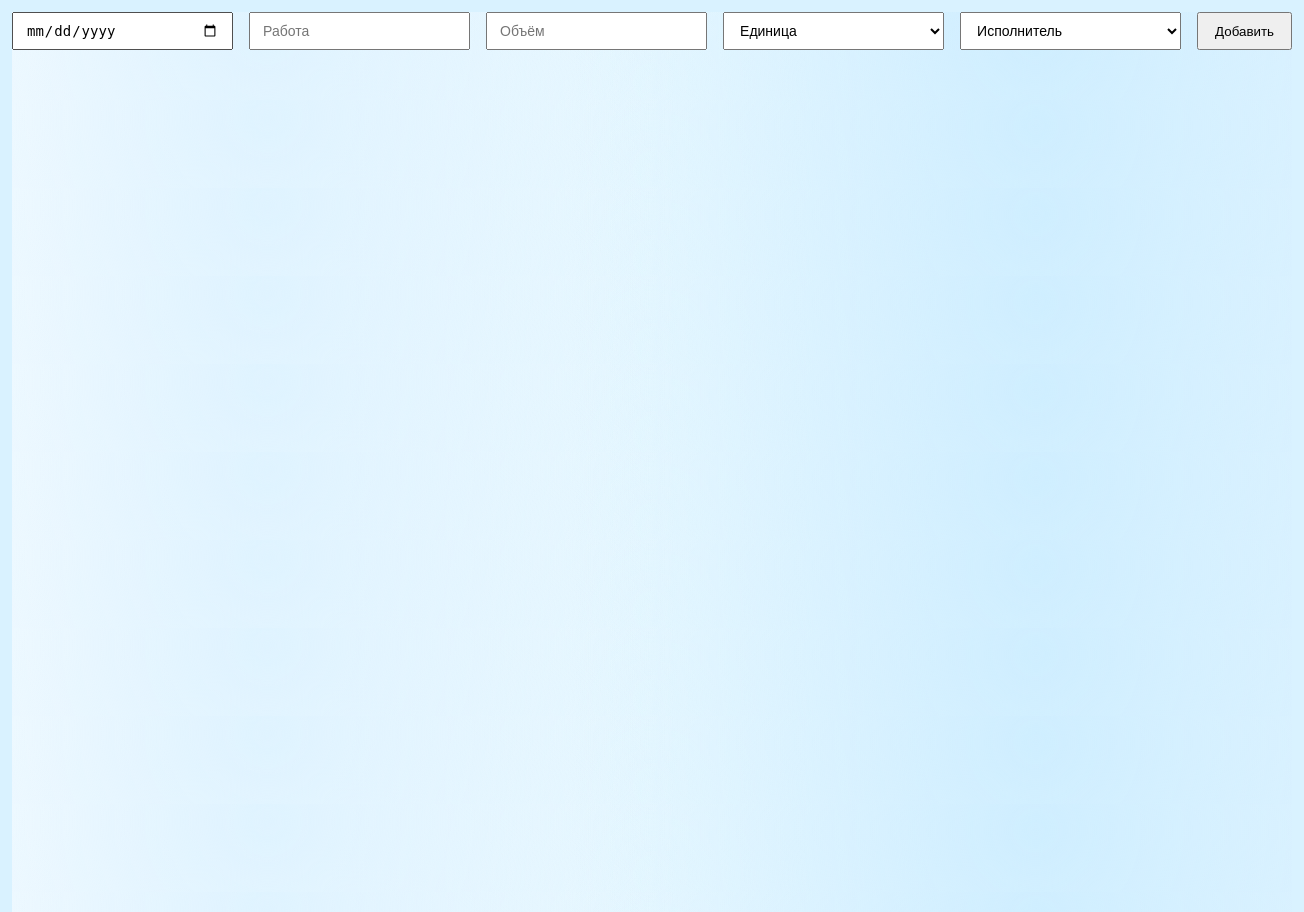
Test case: LogForm › disables button while submitting
The image size is (1304, 912).
Type "2026-06-05" into the date field with test id "date-input". click: (122, 31)
box: [12, 12, 233, 50]
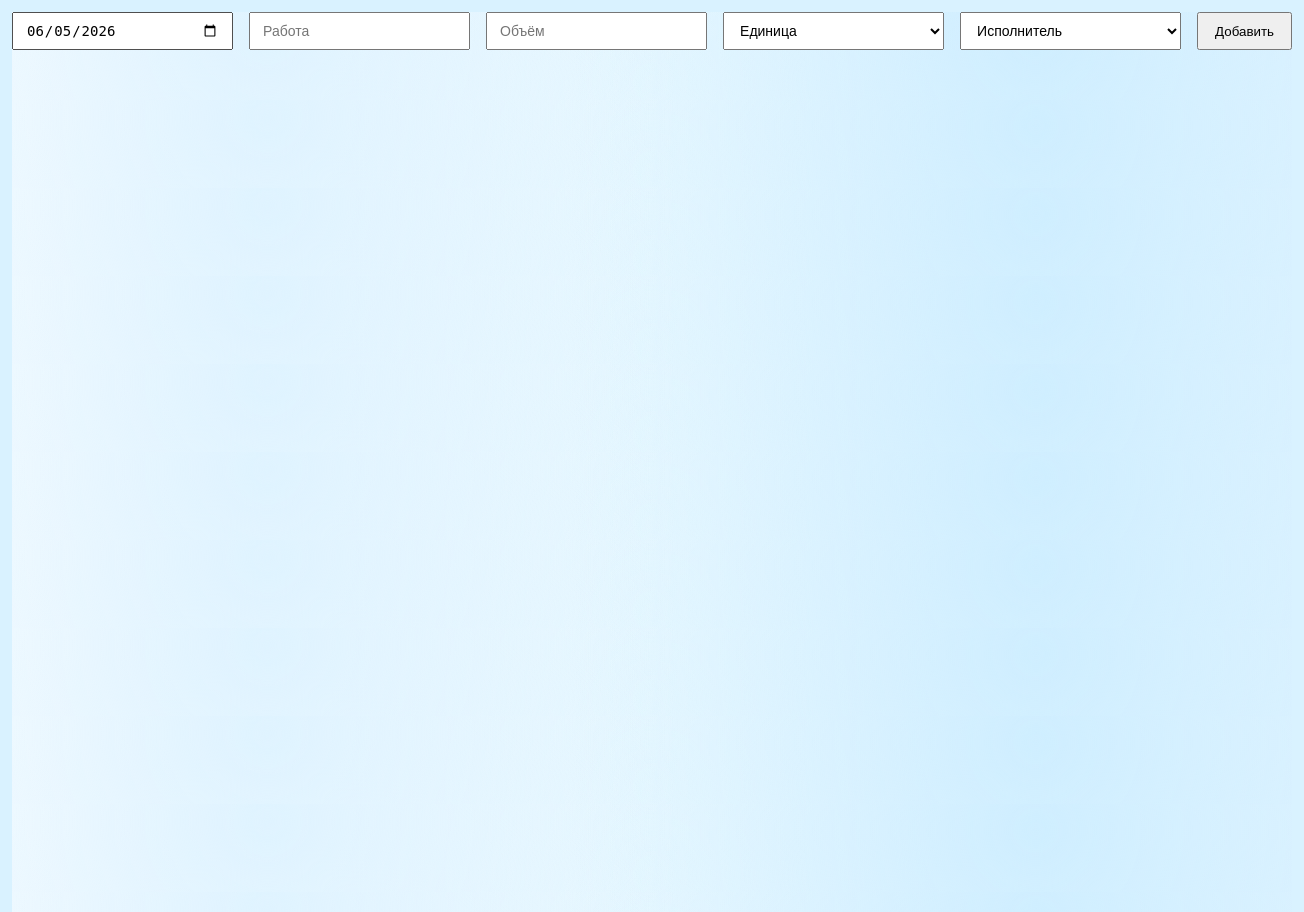
Type "Бетонирование" into the field with placeholder "Работа". click: (360, 31)
box: [249, 12, 470, 50]
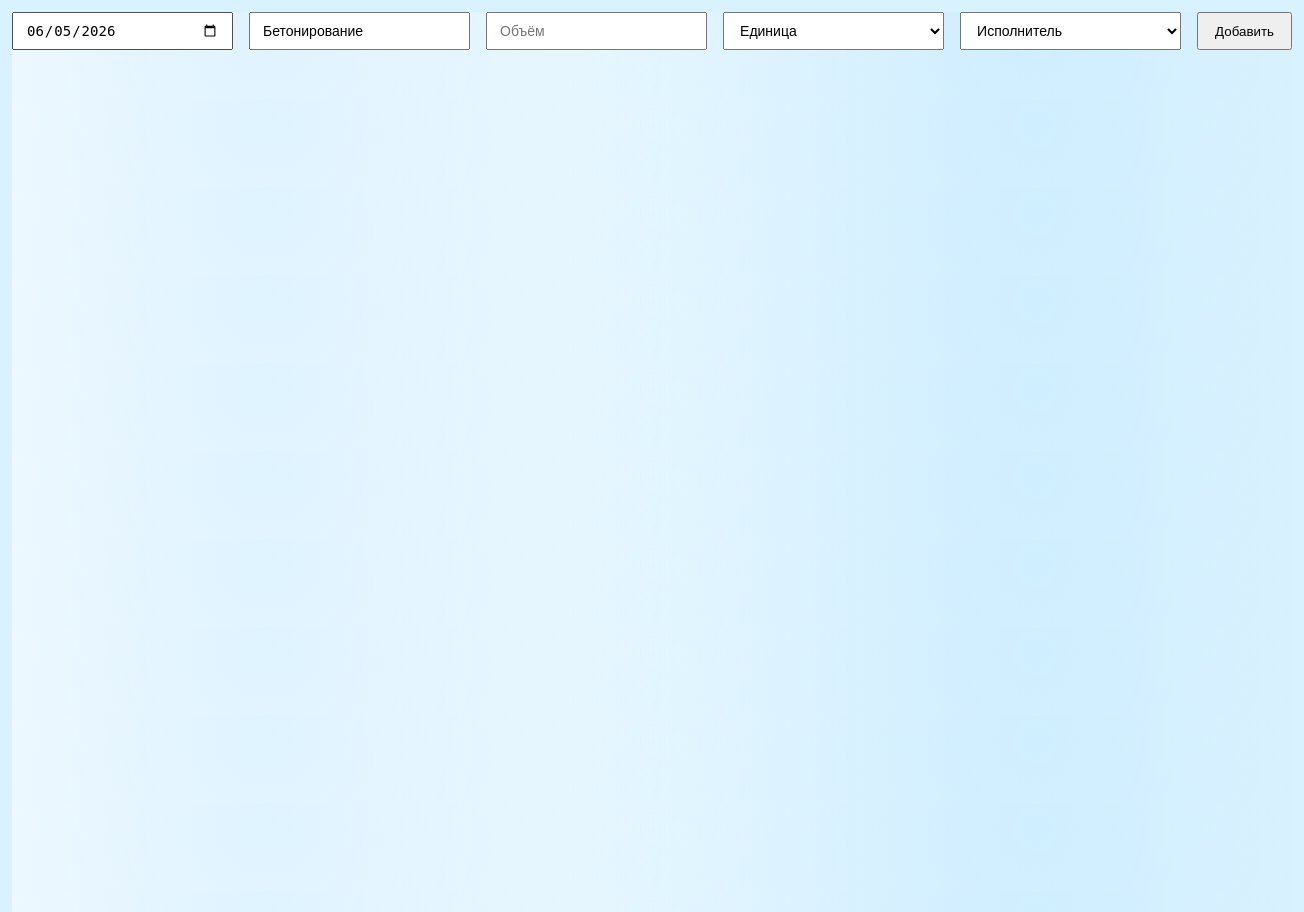
Type "12.5" into the field with placeholder "Объём". click: (596, 31)
box: [486, 12, 707, 50]
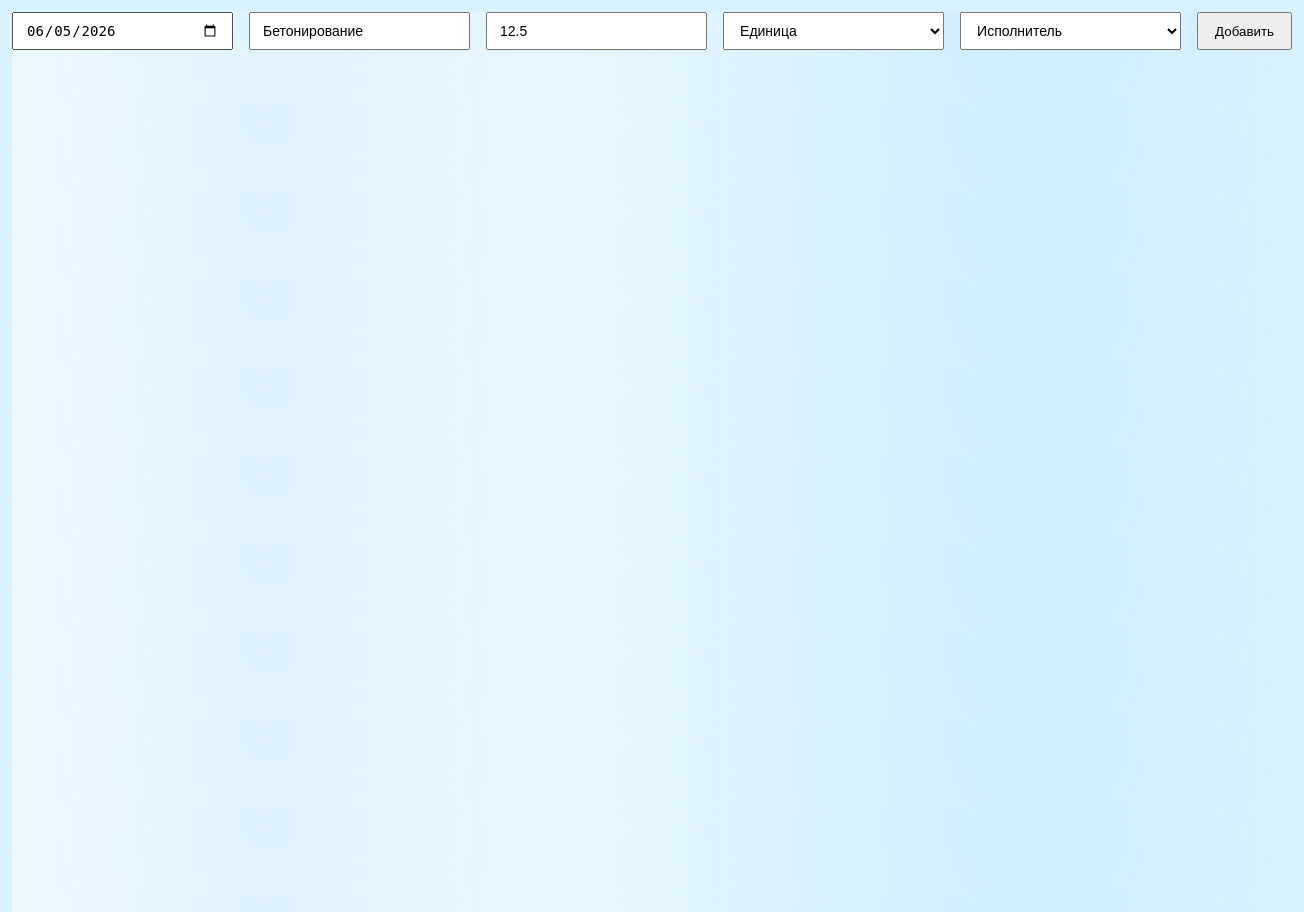
Select "м³" in the 1st dropdown showing "Единица". click: (834, 31)
box: [723, 12, 944, 50]
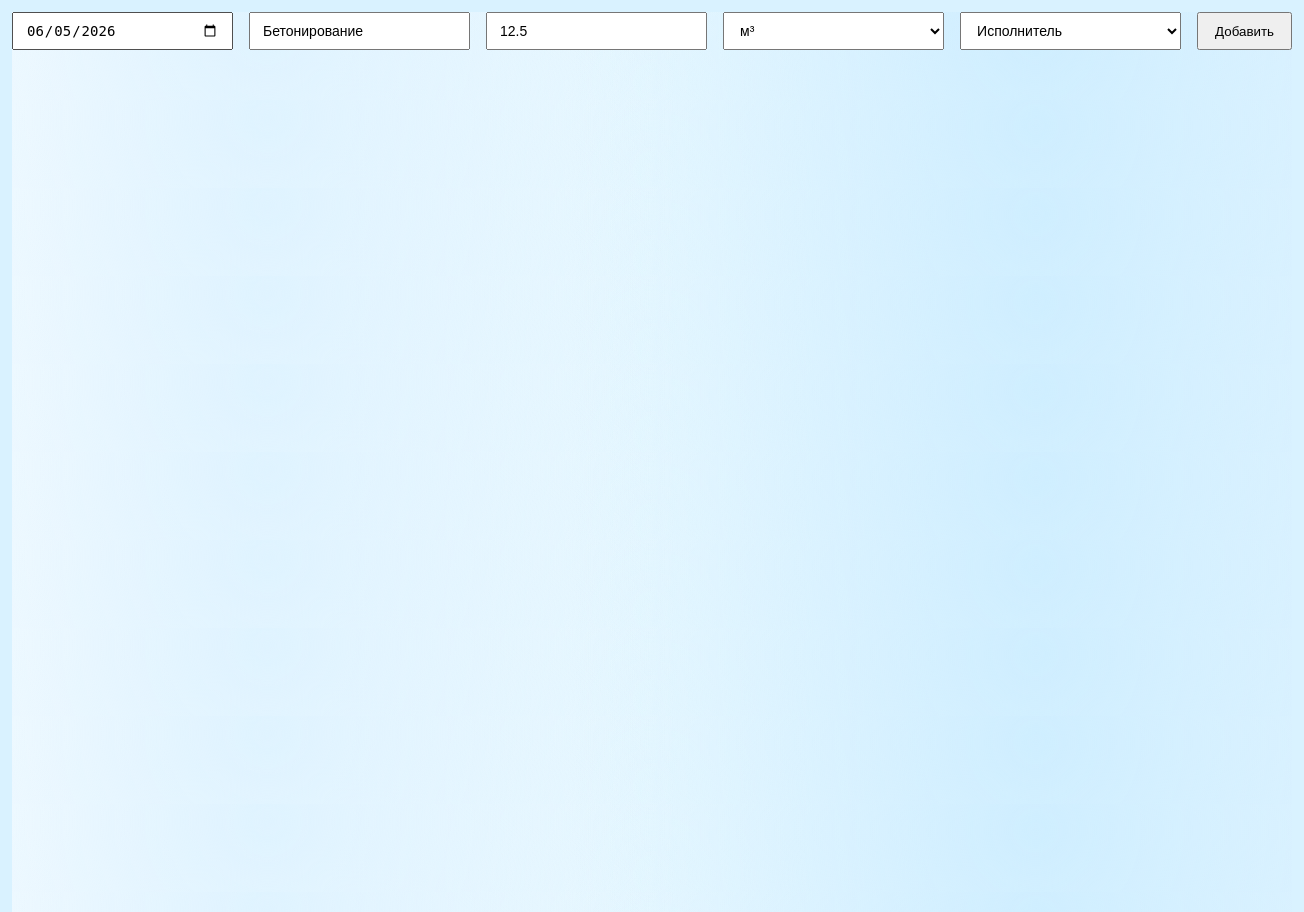
Select "Иванов И.И." in the 2nd dropdown showing "Исполнитель". click: (1071, 31)
box: [960, 12, 1181, 50]
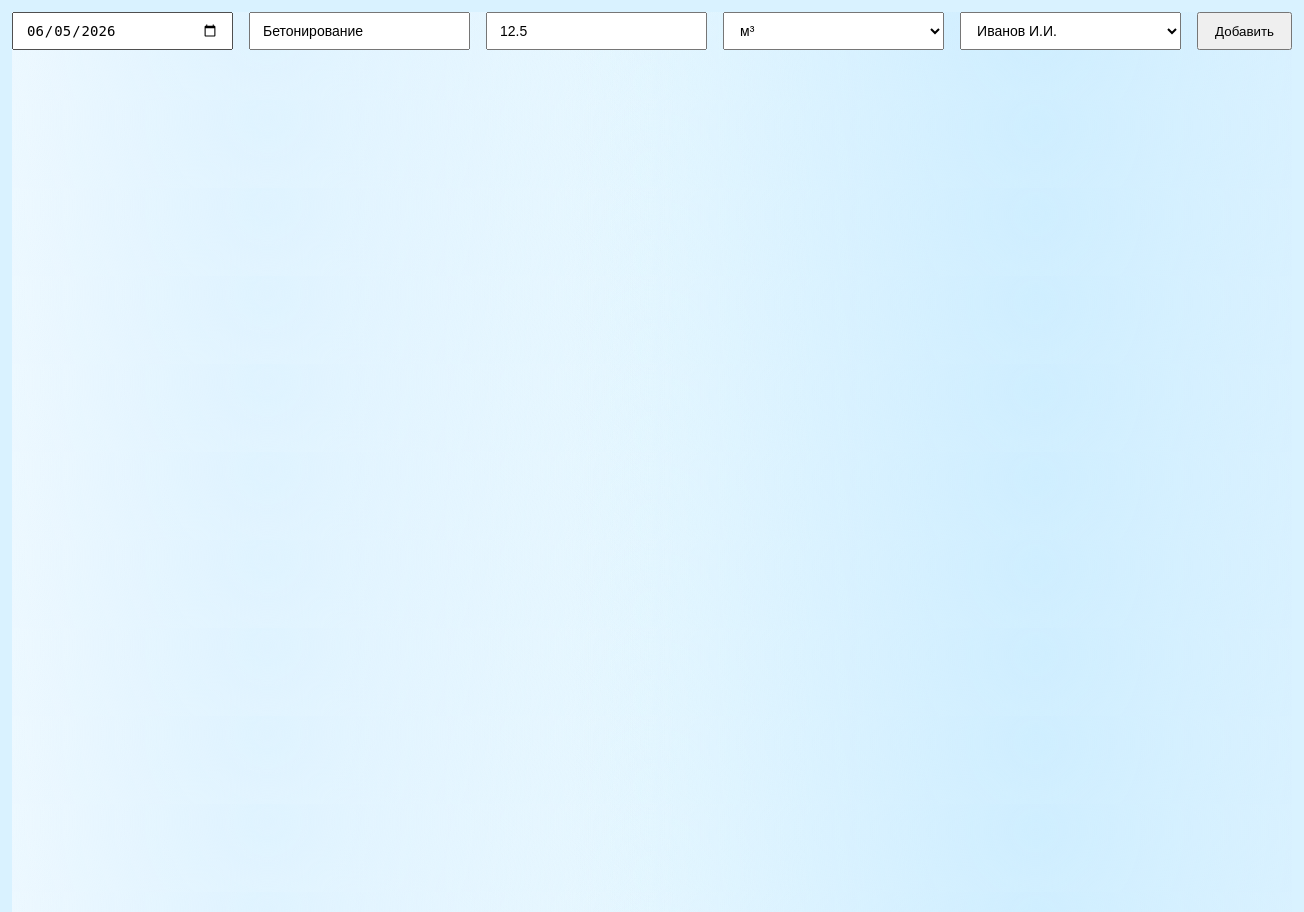
Click the button "Добавить". click: (1245, 31)
box: [1197, 12, 1292, 50]
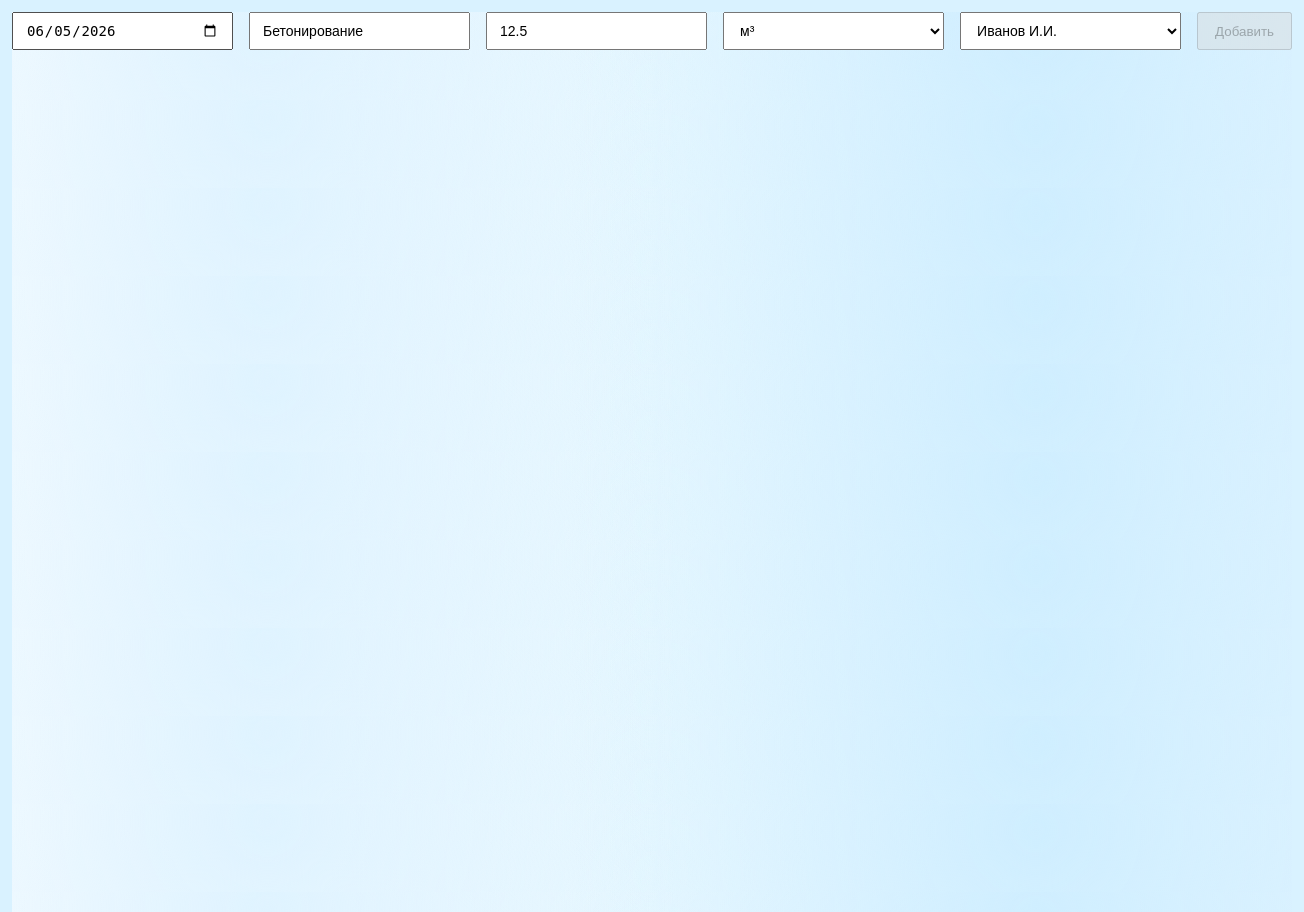
Result: the button "Добавить" is disabled at [1197, 12, 1292, 50]
